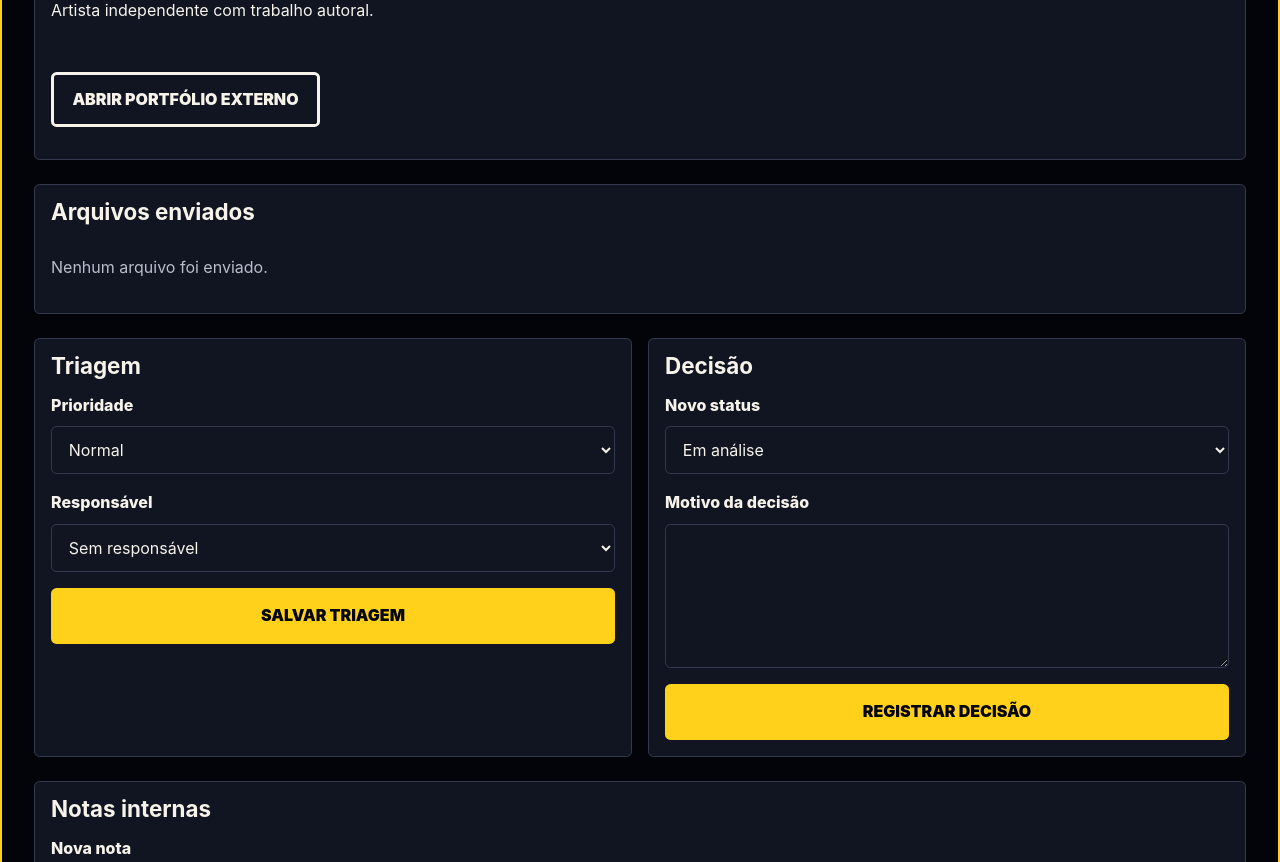
Test: ficha administrativa de inscrição › mostra os dados completos e salva a triagem
(page scrolled)
Expected: the text "Artista independente com trabalho autoral." is shown, [51,0,374,20]
Select "Urgente" in the dropdown labelled "Prioridade" at (333, 450), box [51,426,615,474]
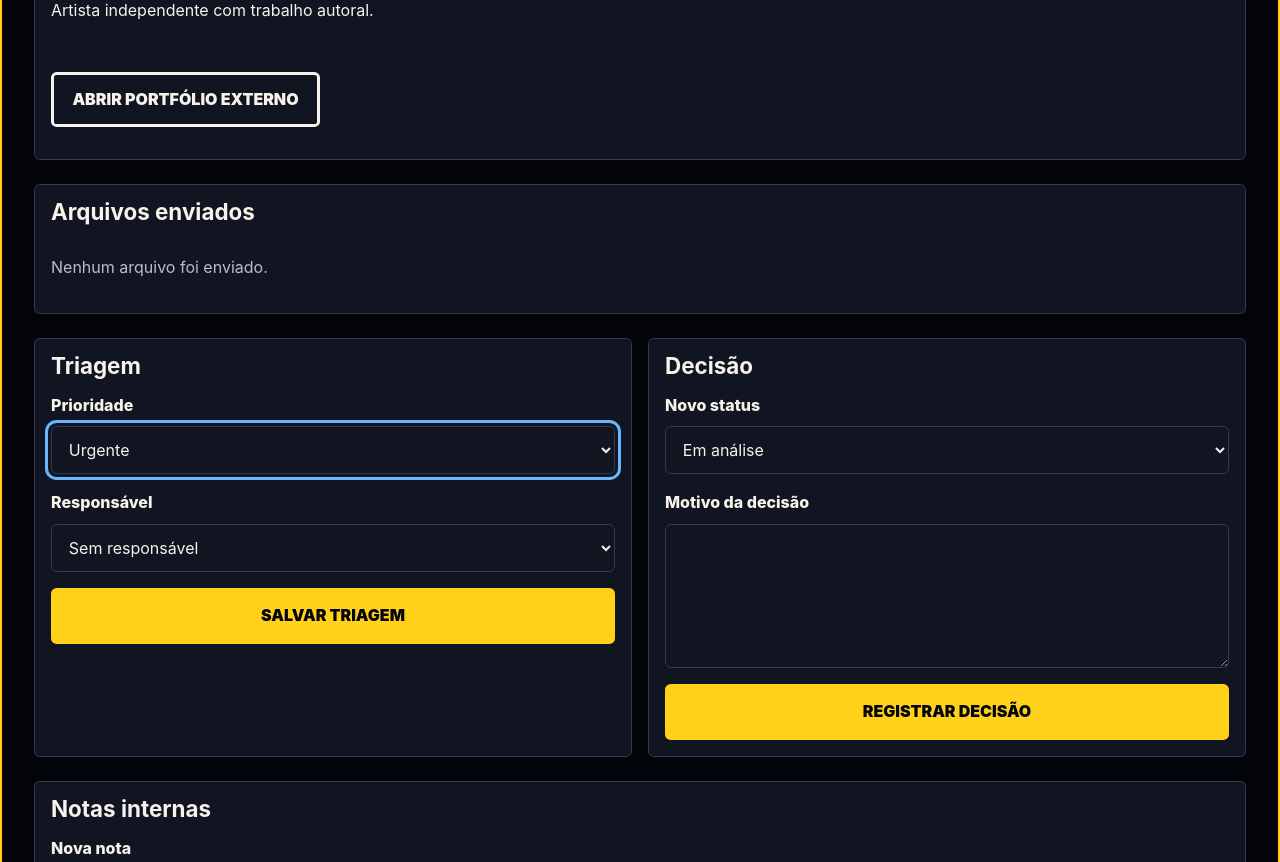
Select "Administrador" in the dropdown labelled "Responsável" at (333, 548), box [51,524,615,572]
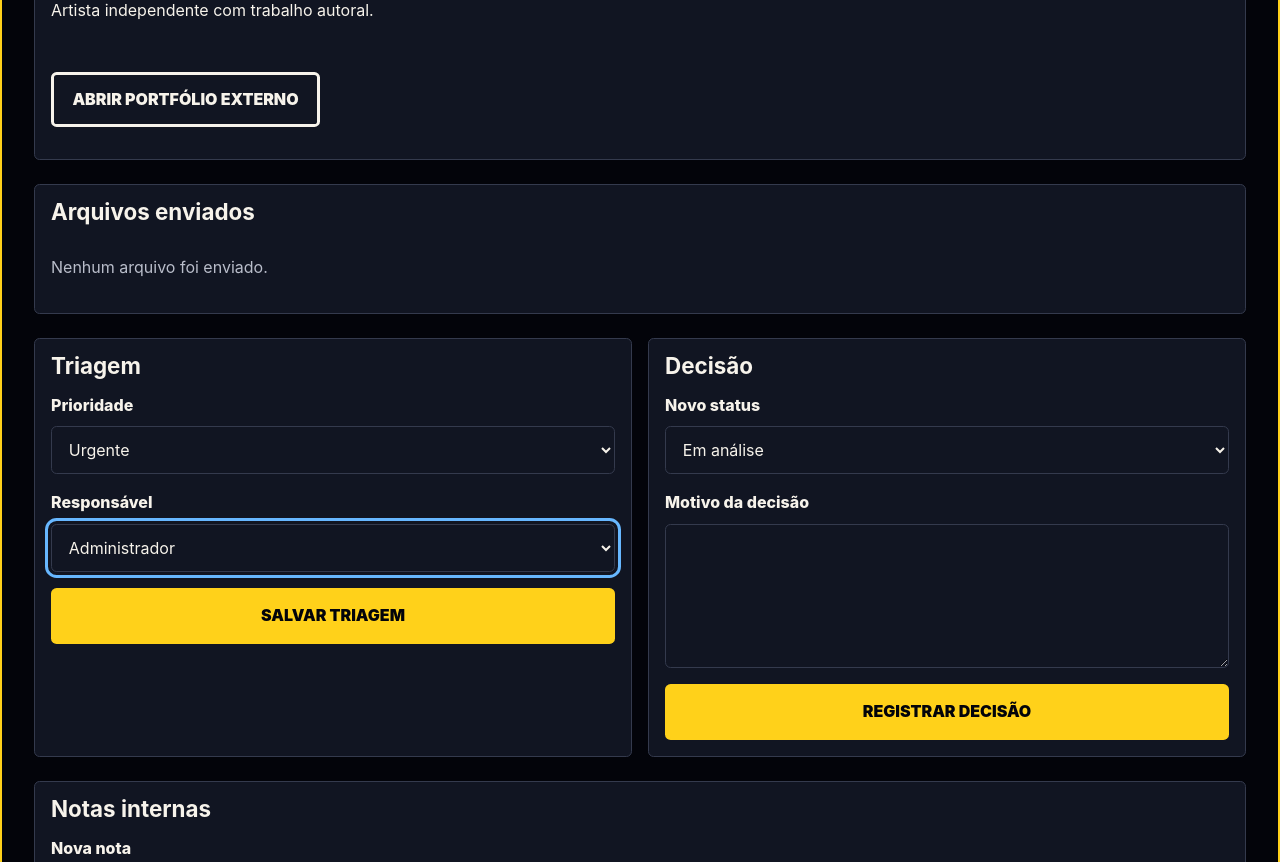
Click the button "SALVAR TRIAGEM".
click(333, 616)  # box [51,588,615,644]
(page scrolled)
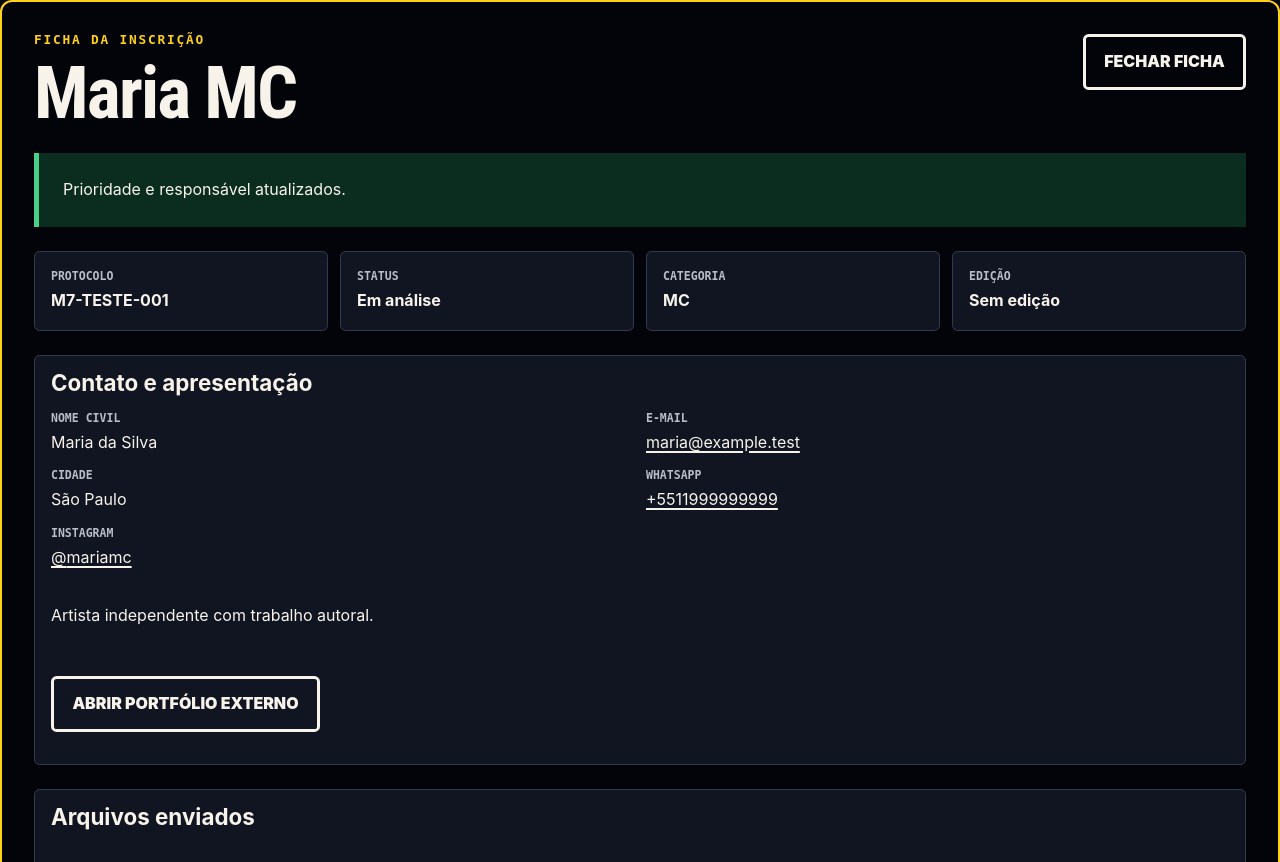
Result: the text "Prioridade e responsável atualizados." is shown at [34,153,1246,227]
